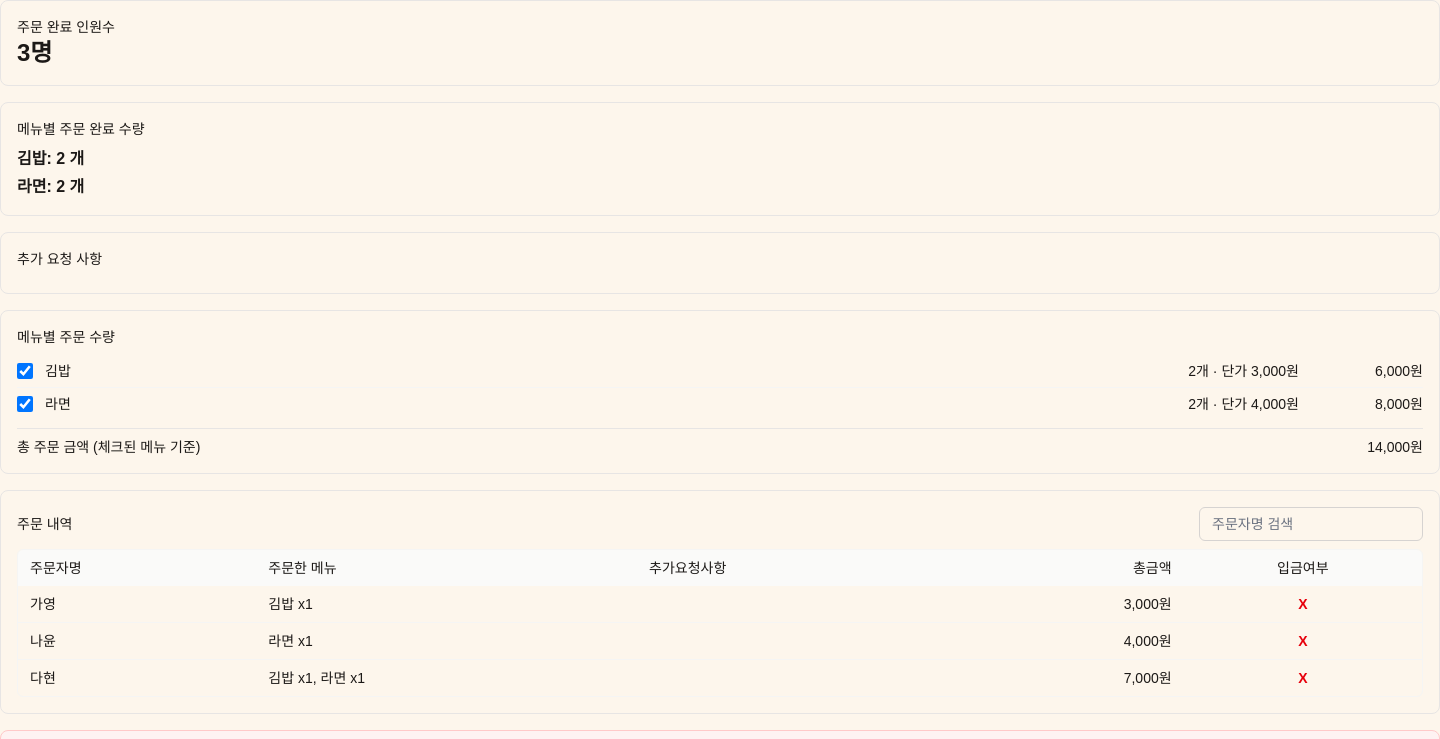
it: OrderSummary 주문 현황 › 메뉴 체크박스를 해제하면 총 주문 금액과 주문 내역이 그에 맞게 필터링된다
Expected: the text "14,000원" is shown, [1367, 437, 1423, 457]
Expected: the number of rows is 4, [18, 550, 1422, 586]; [18, 586, 1422, 622]; [18, 622, 1422, 660]; [18, 660, 1422, 696]
Click the checkbox in the row of "8,000".
click(25, 404)  # box [17, 396, 33, 412]
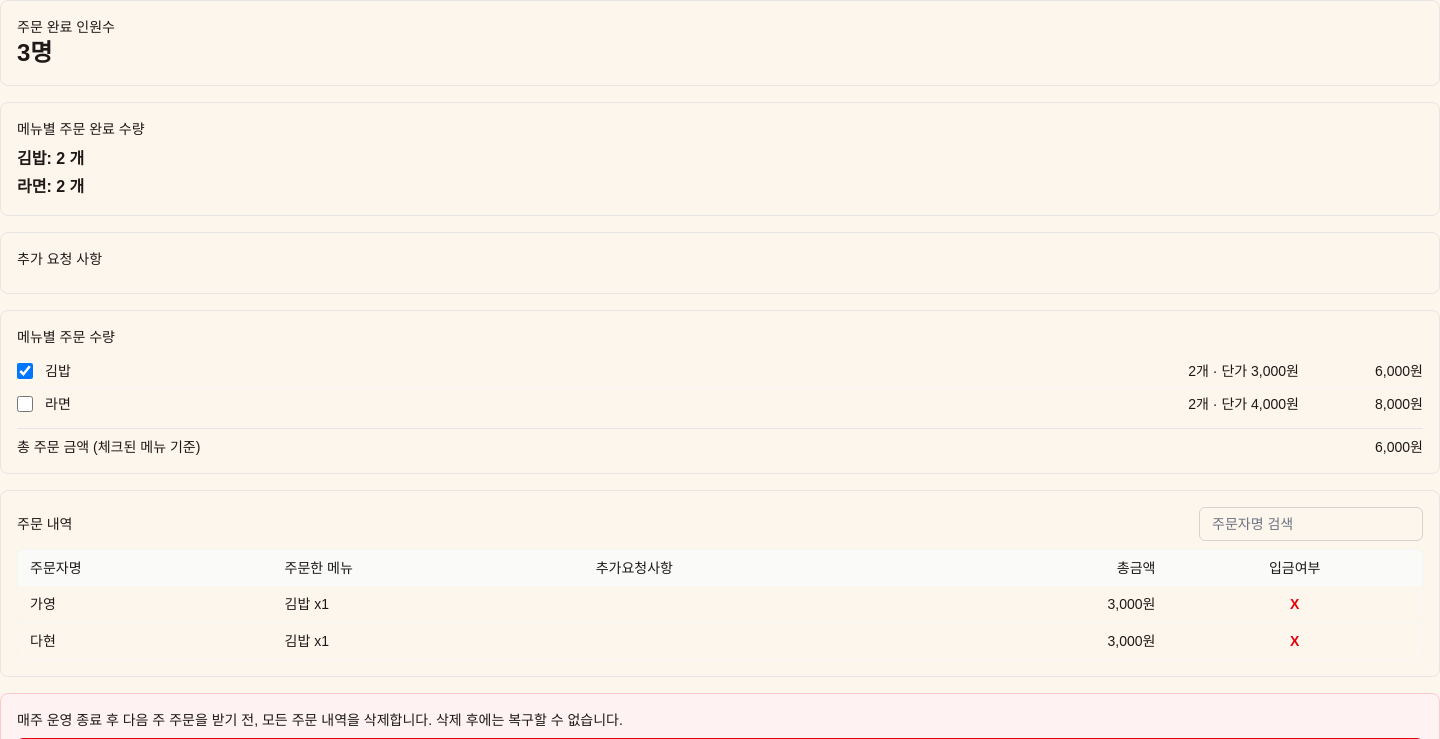
Expected: the text "6,000원" in the row of "총 주문 금액 (체크된 메뉴 기준)" is shown, [1375, 437, 1423, 457]
Expected: the number of rows is 3, [18, 550, 1422, 586]; [18, 586, 1422, 622]; [18, 622, 1422, 659]
Expected: the text "나윤" is gone
